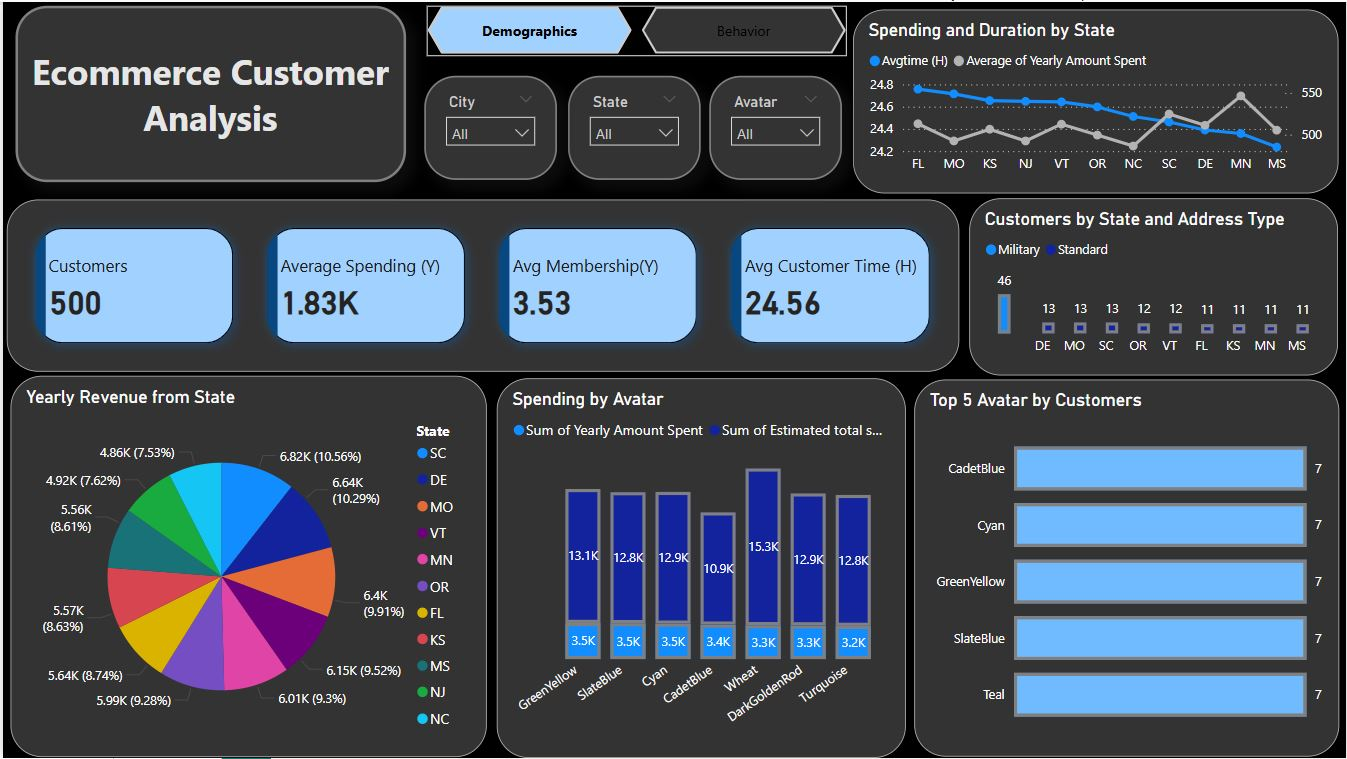

Layout of this report page (visuals, bound fields, positions):
{"tool":"powerbi","page":{"name":"Demographics","canvas":[1280,720],"ordinal":0},"visuals":[{"type":"barChart","title":"Top 5 Avatar by Customers","fields":{"Category":["Ecommerce_data_week2_final.Avatar"],"Y":["CountNonNull(Ecommerce_data_week2_final.Email)"]},"box":[867.9,359.5,404.8,359.5],"z":0},{"type":"slicer","fields":{"Values":["Ecommerce_data_week2_final.State"]},"box":[538.1,70.2,126.2,98.8],"z":1000},{"type":"clusteredColumnChart","fields":{"Category":["Ecommerce_data_week2_final.State"],"Series":["Ecommerce_data_week2_final.Address Type"],"Y":["CountNonNull(Ecommerce_data_week2_final.Email)"]},"box":[920.2,186.9,351.2,169],"z":2000},{"type":"pieChart","title":"Yearly Revenue from State","fields":{"Y":["Sum(Ecommerce_data_week2_final.Yearly Amount Spent)"],"Category":["Ecommerce_data_week2_final.State"]},"box":[7.1,356,453.6,363.1],"z":3000},{"type":"columnChart","title":"Spending by Avatar","fields":{"Category":["Ecommerce_data_week2_final.Avatar"],"Y":["Sum(Ecommerce_data_week2_final.Yearly Amount Spent)","Sum(Ecommerce_data_week2_final.Estimated total spending)"]},"box":[470.2,358.1,389.3,361.9],"z":4000},{"type":"lineChart","title":"Spending and Duration by State","fields":{"Category":["Ecommerce_data_week2_final.State"],"Y":["Avg(Ecommerce_data_week2_final.avgtime)"],"Y2":["Avg(Ecommerce_data_week2_final.Yearly Amount Spent)"]},"box":[809.3,7.2,462.3,175.3],"z":5000},{"type":"slicer","fields":{"Values":["Ecommerce_data_week2_final.City"]},"box":[401.2,70.2,126.2,98.8],"z":6000},{"type":"cardVisual","fields":{"Data":["CountNonNull(Ecommerce_data_week2_final.Address)","Avg(Ecommerce_data_week2_final.Estimated total spending)","Avg(Ecommerce_data_week2_final.Length of Membership)","Avg(Ecommerce_data_week2_final.avgtime)"]},"box":[3.6,188.1,907.1,164.3],"z":7000},{"type":"slicer","fields":{"Values":["Ecommerce_data_week2_final.Avatar"]},"box":[672.6,70.2,126.2,98.8],"z":8000},{"type":"pageNavigator","box":[403.7,3.7,400,47.6],"z":9000},{"type":"actionButton","box":[12,3.6,372.2,168.1],"z":10000}]}

Visuals, with their boxes in screenshot pixels (x1, y1, x2, y2), scaled from the page's 1280x720 canvas onto the 1347x759 screenshot:
"Top 5 Avatar by Customers" barChart: bbox=[913, 379, 1339, 758]
slicer - Ecommerce_data_week2_final.State: bbox=[566, 74, 699, 178]
clusteredColumnChart - Ecommerce_data_week2_final.State x Ecommerce_data_week2_final.Address Type: bbox=[968, 197, 1338, 375]
"Yearly Revenue from State" pieChart: bbox=[7, 375, 485, 758]
"Spending by Avatar" columnChart: bbox=[495, 377, 904, 758]
"Spending and Duration by State" lineChart: bbox=[852, 8, 1338, 192]
slicer - Ecommerce_data_week2_final.City: bbox=[422, 74, 555, 178]
cardVisual - CountNonNull(Ecommerce_data_week2_final.Address) x Avg(Ecommerce_data_week2_final.Estimated total spending): bbox=[4, 198, 958, 371]
slicer - Ecommerce_data_week2_final.Avatar: bbox=[708, 74, 841, 178]
pageNavigator: bbox=[425, 4, 846, 54]
actionButton: bbox=[13, 4, 404, 181]
